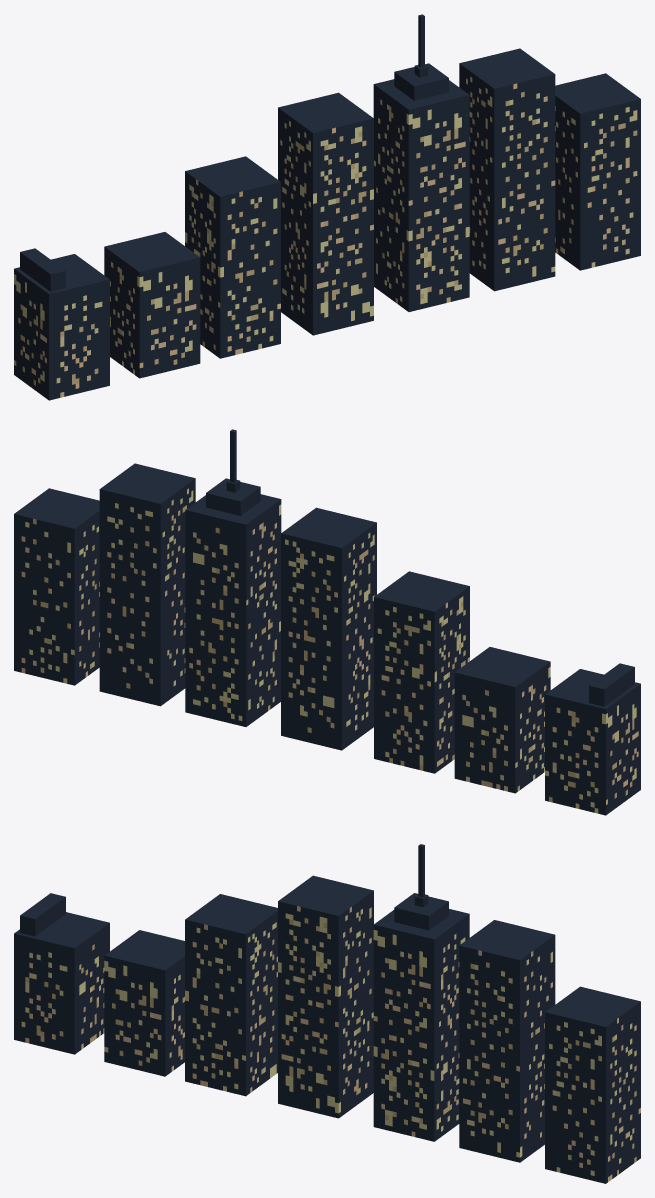
File: building.fbx
3 views of the same model, one above another, from view 1: azimuth 30°, elevation 25°; view 2: azimuth 150°, elevation 25°; view 3: azimuth 330°, elevation 25° (orthographic).
Visible parts, largest first — view 1: pCube2, pCube1, pCube6, pCube3, pCube7, pCube5, pCube4; view 2: pCube2, pCube1, pCube6, pCube3, pCube7, pCube5, pCube4; view 3: pCube1, pCube2, pCube6, pCube7, pCube3, pCube5, pCube4.
Boxes of the visible parts, box(x1,y1,x2,y2) form: pCube2: box(373, 14, 469, 311); pCube1: box(278, 92, 373, 335); pCube6: box(459, 48, 555, 291); pCube3: box(185, 156, 280, 358); pCube7: box(555, 73, 640, 270); pCube5: box(14, 248, 109, 400); pCube4: box(104, 232, 200, 378); pCube2: box(185, 429, 281, 726); pCube1: box(281, 507, 376, 750); pCube6: box(99, 463, 195, 706); pCube3: box(374, 571, 469, 773); pCube7: box(14, 488, 99, 685); pCube5: box(545, 663, 640, 815); pCube4: box(454, 647, 550, 793); pCube1: box(278, 875, 373, 1118); pCube2: box(373, 844, 469, 1141); pCube6: box(459, 920, 555, 1162); pCube7: box(545, 986, 640, 1183); pCube3: box(185, 894, 277, 1096); pCube5: box(14, 893, 109, 1054); pCube4: box(104, 930, 184, 1076).
Size of the model in its own units: 54.65 by 24.42 by 5.61.
